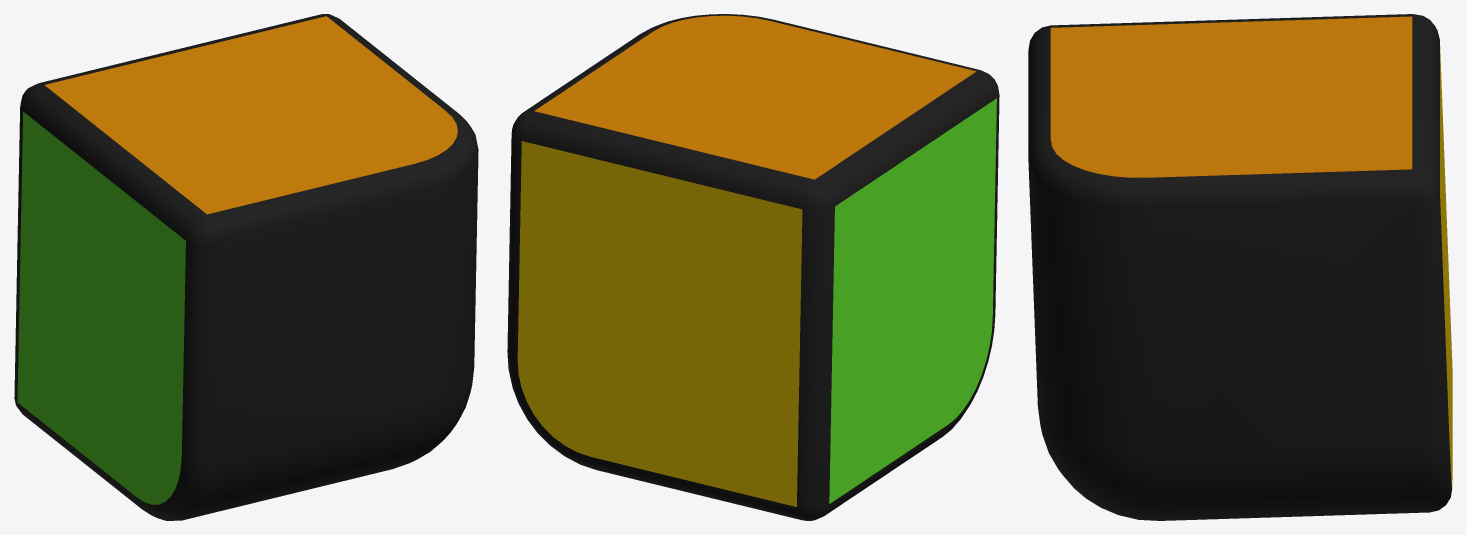
The model's file is corner-cubie.glb.
3 views of the same model, side by side, from view 1: azimuth 30°, elevation 25°; view 2: azimuth 150°, elevation 25°; view 3: azimuth 270°, elevation 25° (orthographic). The views are drawn at different scales.
Parts seen in each view (by area): view 1: 3_Black_0.001; view 2: 3_Black_0.001; view 3: 3_Black_0.001.
Boxes of the visible parts, x1=… form: 3_Black_0.001: x1=14, y1=14, x2=478, y2=520; 3_Black_0.001: x1=507, y1=14, x2=999, y2=520; 3_Black_0.001: x1=1028, y1=14, x2=1452, y2=520.
Bounding box in the file's own units: 40 × 40.88 × 41.21.
